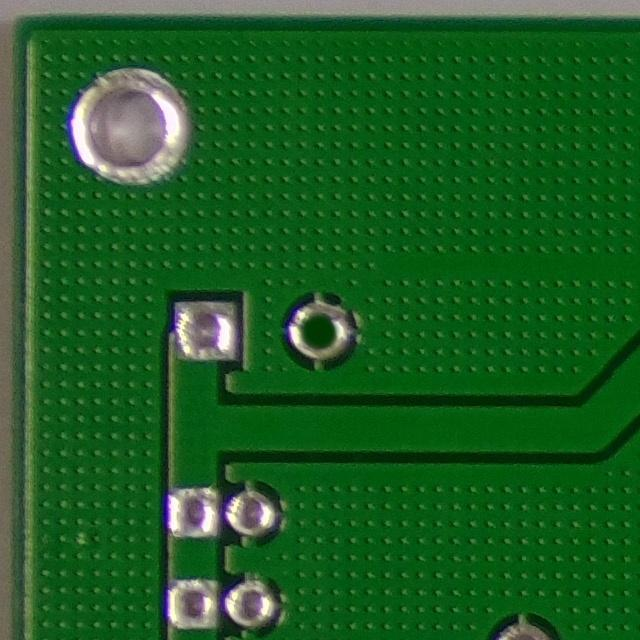missing_hole: (279, 294, 353, 374)
